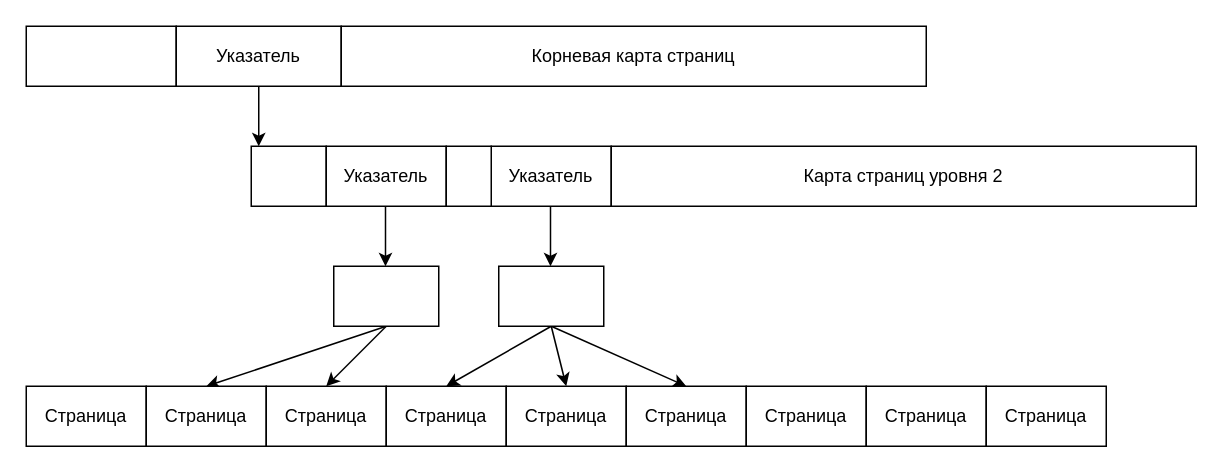
The diagram is 1223 pixels wide and 473 high, and some of its shapes have lost their labels. Each missing label, with the box of its shape:
Спан А: (332, 265, 439, 326)
Спан Б: (497, 265, 604, 326)
